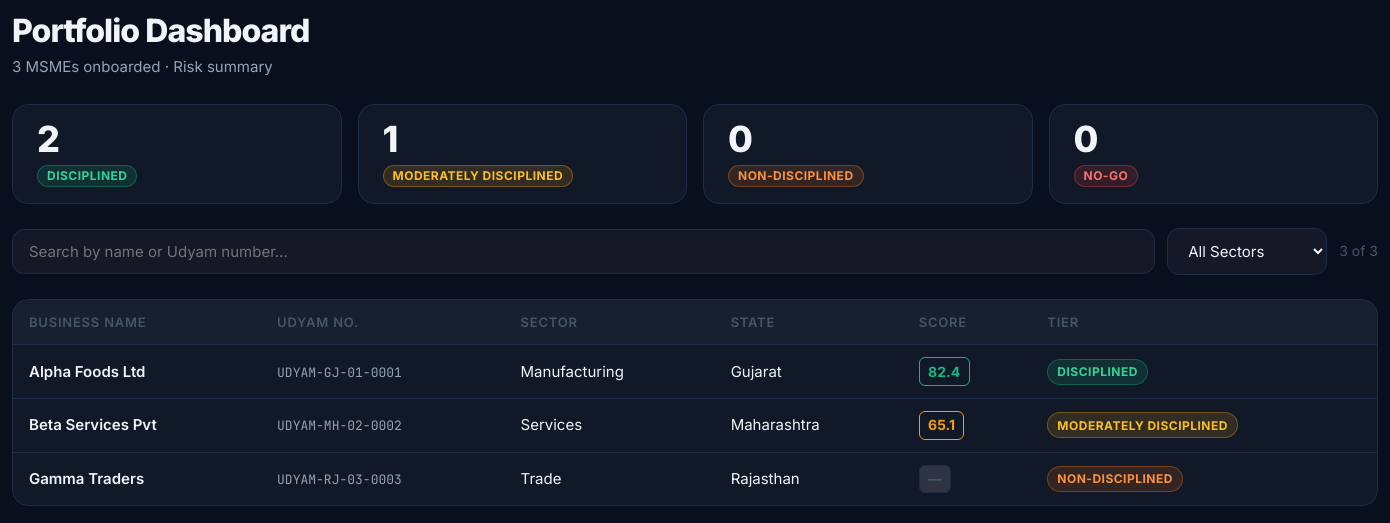
Test: DashboardPage › search filter narrows results
Expected: the text "Alpha Foods Ltd" is shown, [13, 345, 261, 399]
Type "alpha" into the search field.
click(584, 251); type("alpha")  # box [12, 229, 1155, 274]
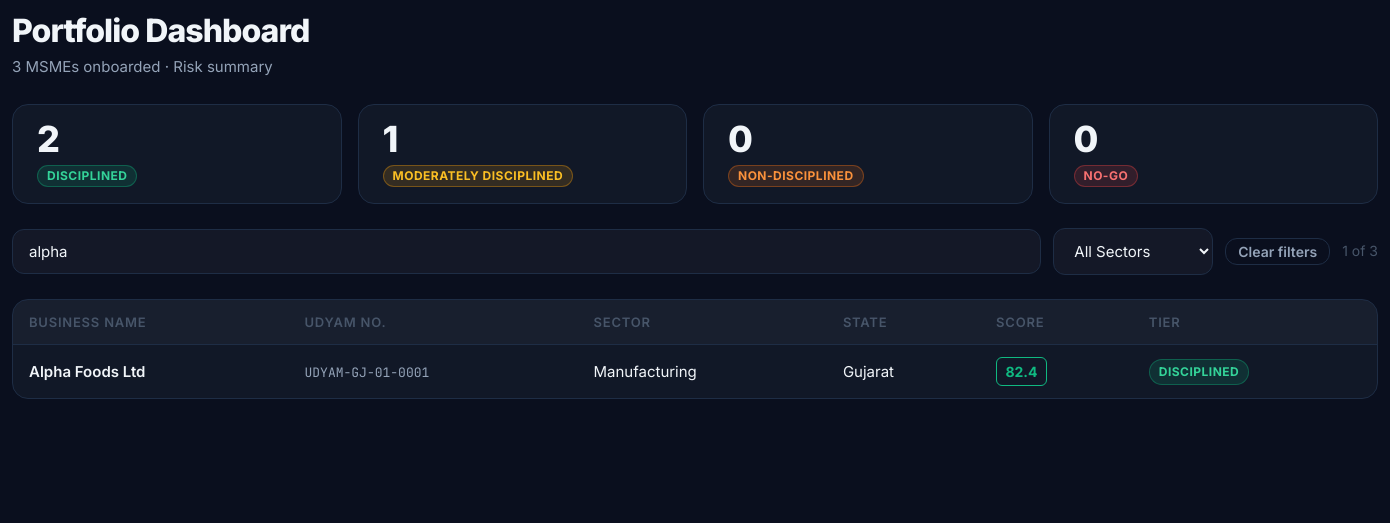
Expected: the text "Alpha Foods Ltd" is shown, [13, 345, 288, 398]
Now the button "Beta Services Pvt" is gone
Now the button "Gamma Traders" is gone
